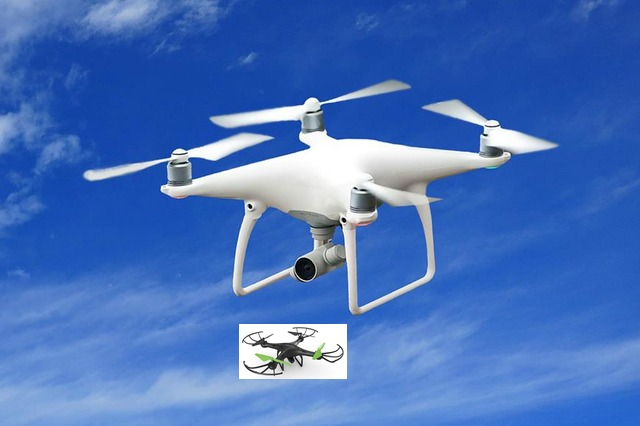drone: (83, 78, 559, 317), (239, 324, 347, 379)
